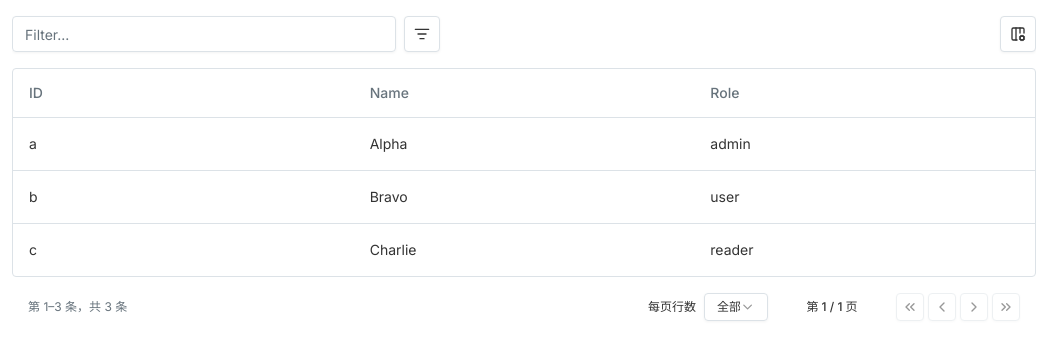
Test: DataTable — multi-column search › refilters immediately when the picker disables a column that an already-typed query matched (regression for d4c1b13)
Type "admin" into the field with placeholder "Filter..." at x=204, y=34, box [13,16,395,52]
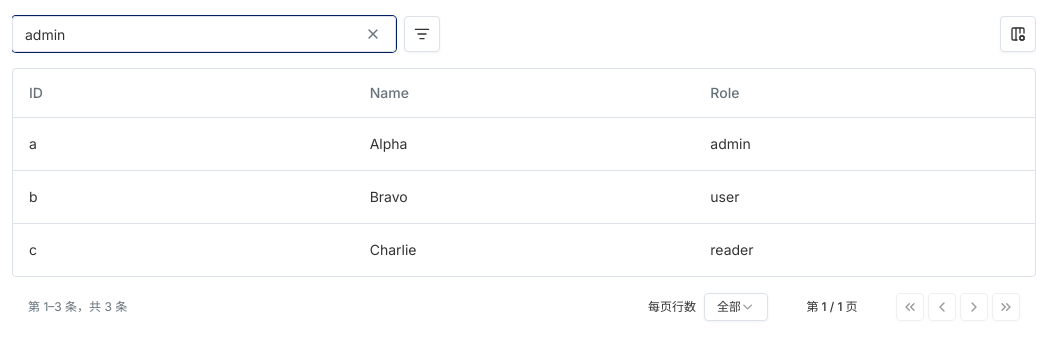
Check: the text "Alpha" is shown, box [354,117,694,170]
Click the button named "搜索范围" at x=422, y=34, box [404,16,440,52]
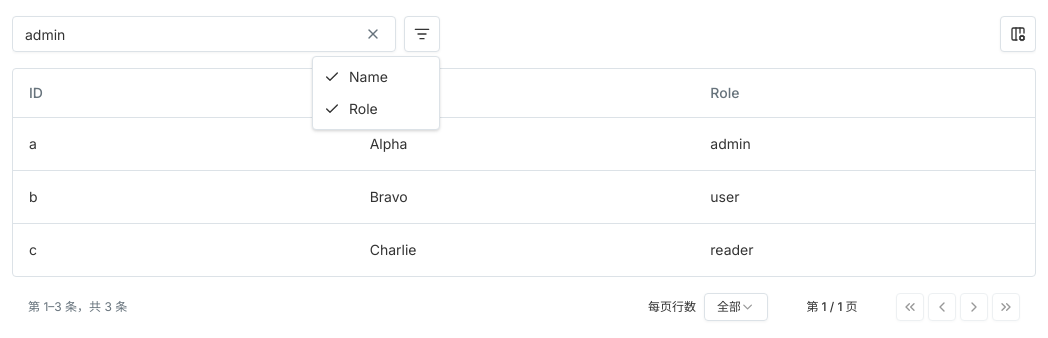
Click the menu item "role" at x=351, y=108, box [324,100,378,117]
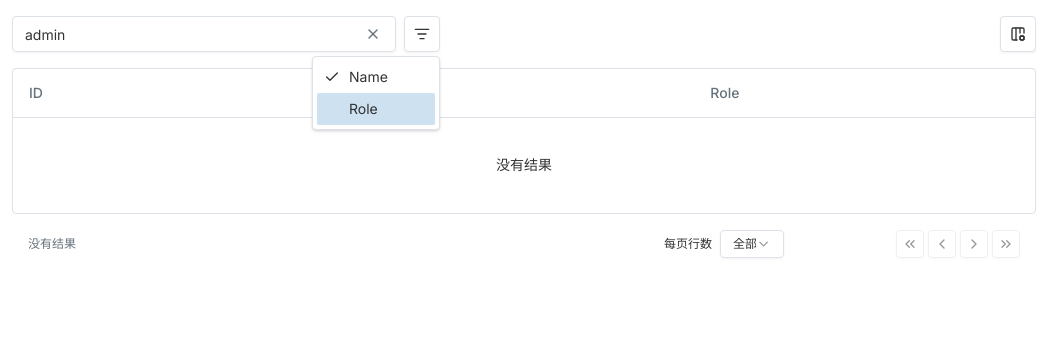
Check: the text "Alpha" is gone
